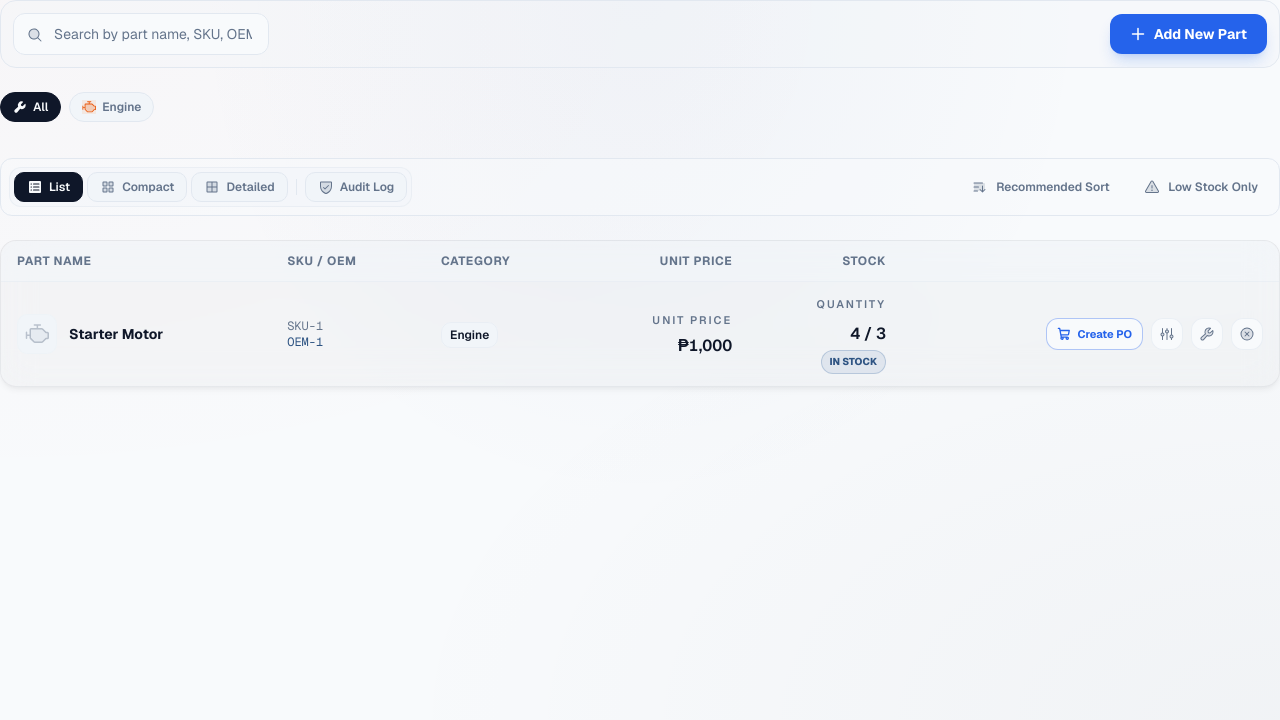
Test case: Stock adjustment form › exposes accessible labels and error descriptions for stock adjustment
This screenshot has width=1280, height=720.
Step 1. Click the button named "adjust stock count" → (1167,334), box [1151, 318, 1183, 350]
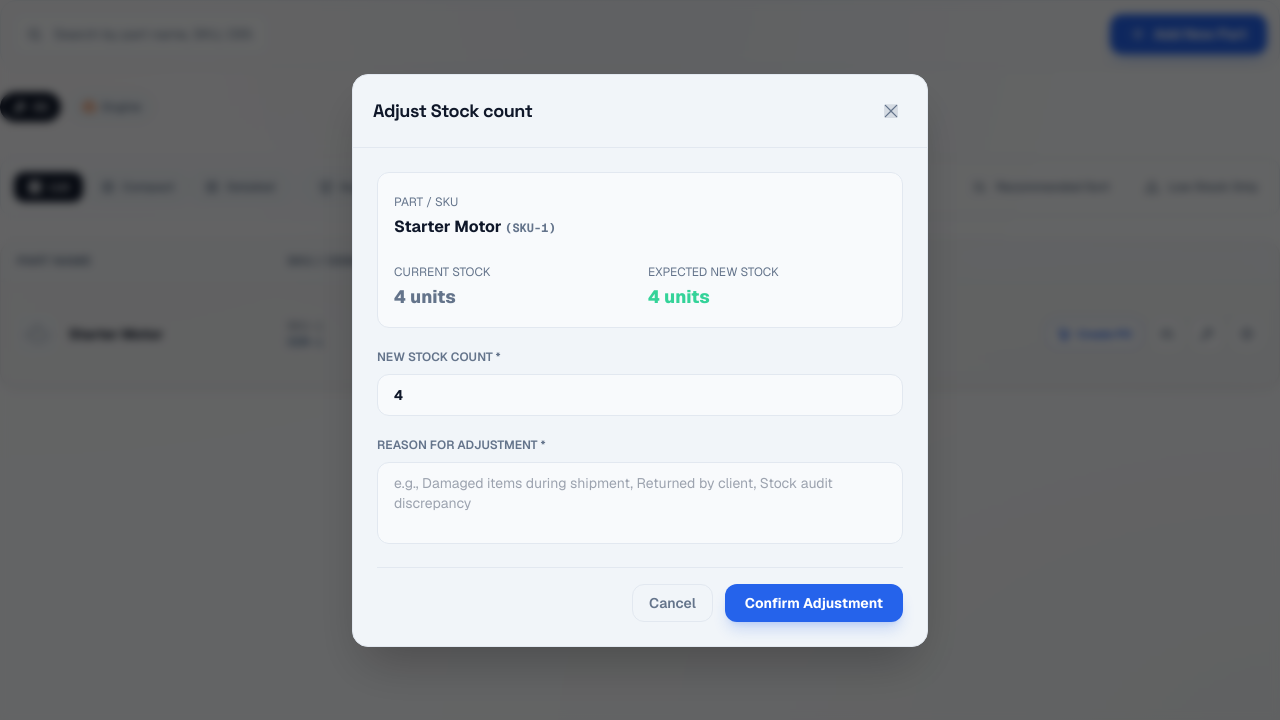
Check: the dialog "Adjust Stock count" is shown, box [352, 74, 928, 646]
